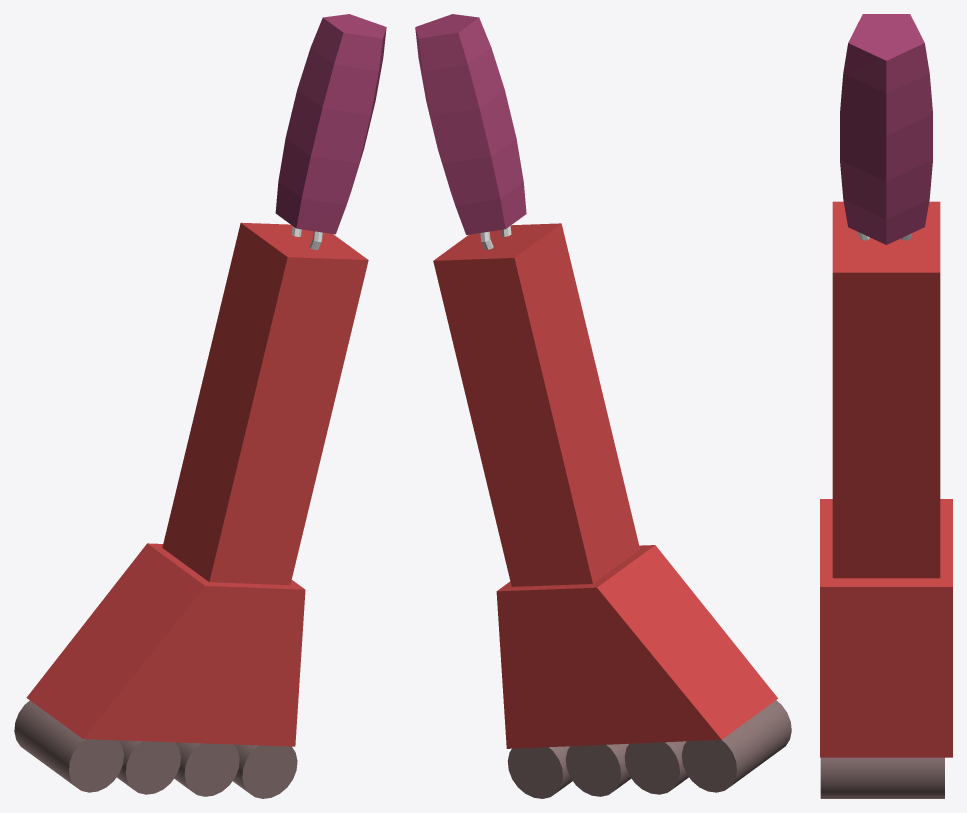
The model's file is leg.fbx.
3 renders of one model, left to right at view 1: azimuth 30°, elevation 25°; view 2: azimuth 150°, elevation 25°; view 3: azimuth 270°, elevation 25°, orthographic. The views are drawn at different scales.
Visible parts, largest first — view 1: polySurface350; view 2: polySurface350; view 3: polySurface350.
Part boxes in pixels (bbox=[...]): polySurface350: bbox=[14, 14, 386, 798]; polySurface350: bbox=[415, 14, 791, 798]; polySurface350: bbox=[820, 14, 952, 798].
Bounding box in the file's own units: 1.17 × 2.36 × 0.3411.
